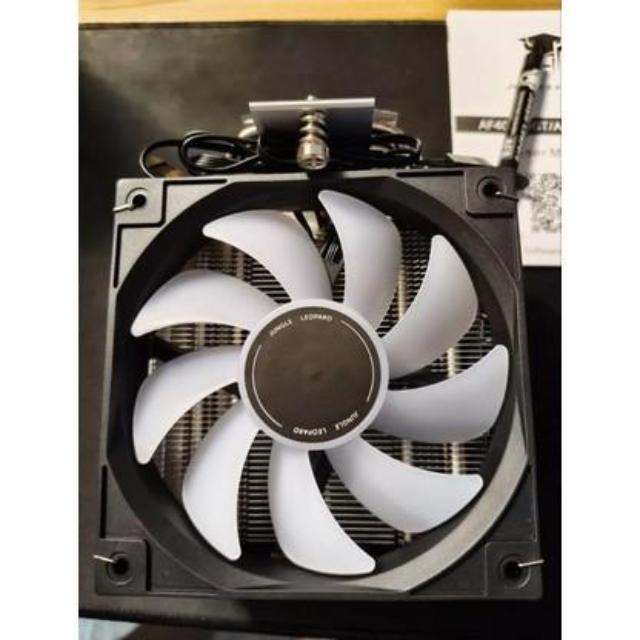CPU_Fan: (91, 95, 548, 612)
